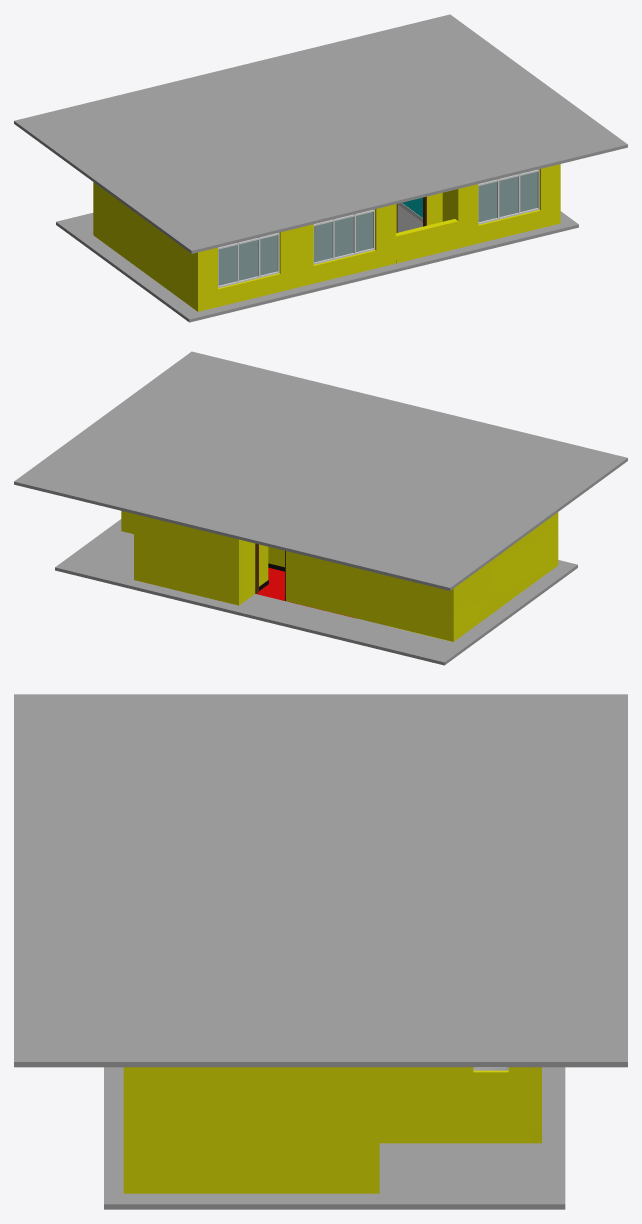
The model's file is Wing_A_Flat_No_03_Type01_MatID.fbx.
The picture shows the model from 3 angles, top to bottom: view 1: azimuth 30°, elevation 25°; view 2: azimuth 150°, elevation 25°; view 3: azimuth 270°, elevation 25°; orthographic projection. The views are drawn at different scales.
Parts seen in each view (by area): view 1: roof, wall, Wing_A_Flat_No_01_Type03:pCube8, Wing_A_Flat_No_01_Type03:Glass1 (×2), Wing_A_Flat_No_01_Type03:Flat_No_03_Type03:Glass1, Wing_A_Flat_No_01_Type03:Window_Frame (×2), Wing_A_Flat_No_01_Type03:Flat_No_03_Type03:Window_Frame; view 2: roof, wall, Wing_A_Flat_No_01_Type03:pCube8; view 3: roof, wall, Wing_A_Flat_No_01_Type03:pCube8.
Part boxes in pixels (box(x1,y1,x2,y2)): roof: box(14, 14, 627, 253); wall: box(93, 164, 560, 311); Wing_A_Flat_No_01_Type03:pCube8: box(56, 204, 578, 322); Wing_A_Flat_No_01_Type03:Glass1 (×2): box(218, 212, 372, 285); Wing_A_Flat_No_01_Type03:Flat_No_03_Type03:Glass1: box(478, 172, 537, 221); Wing_A_Flat_No_01_Type03:Window_Frame (×2): box(218, 209, 374, 287); Wing_A_Flat_No_01_Type03:Flat_No_03_Type03:Window_Frame: box(478, 169, 539, 224); roof: box(14, 351, 627, 590); wall: box(121, 511, 558, 641); Wing_A_Flat_No_01_Type03:pCube8: box(55, 519, 577, 665); roof: box(14, 694, 627, 1067); wall: box(123, 1067, 541, 1193); Wing_A_Flat_No_01_Type03:pCube8: box(104, 1067, 565, 1209).
Bounding box in the file's own units: 1497 × 317 × 1057.
